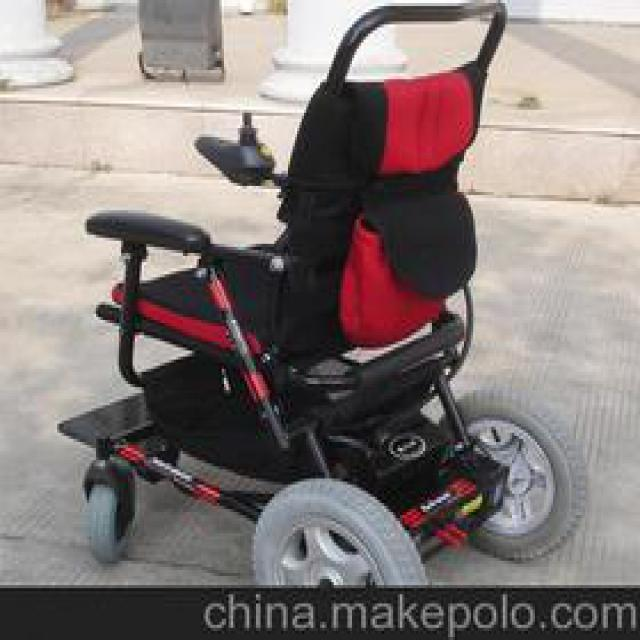wheelchair: (50, 0, 567, 582)
